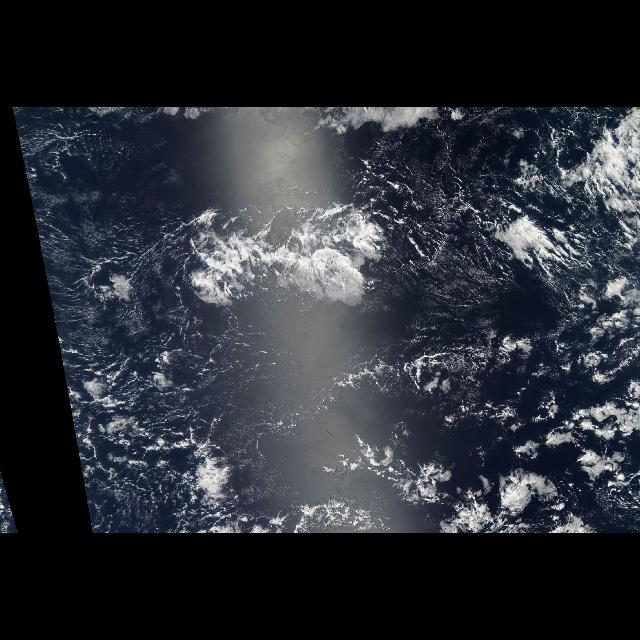Fish: (160, 190, 398, 316)
Flower: (288, 378, 630, 530)
Gravel: (75, 322, 262, 522)
Sugar: (37, 130, 560, 376)
